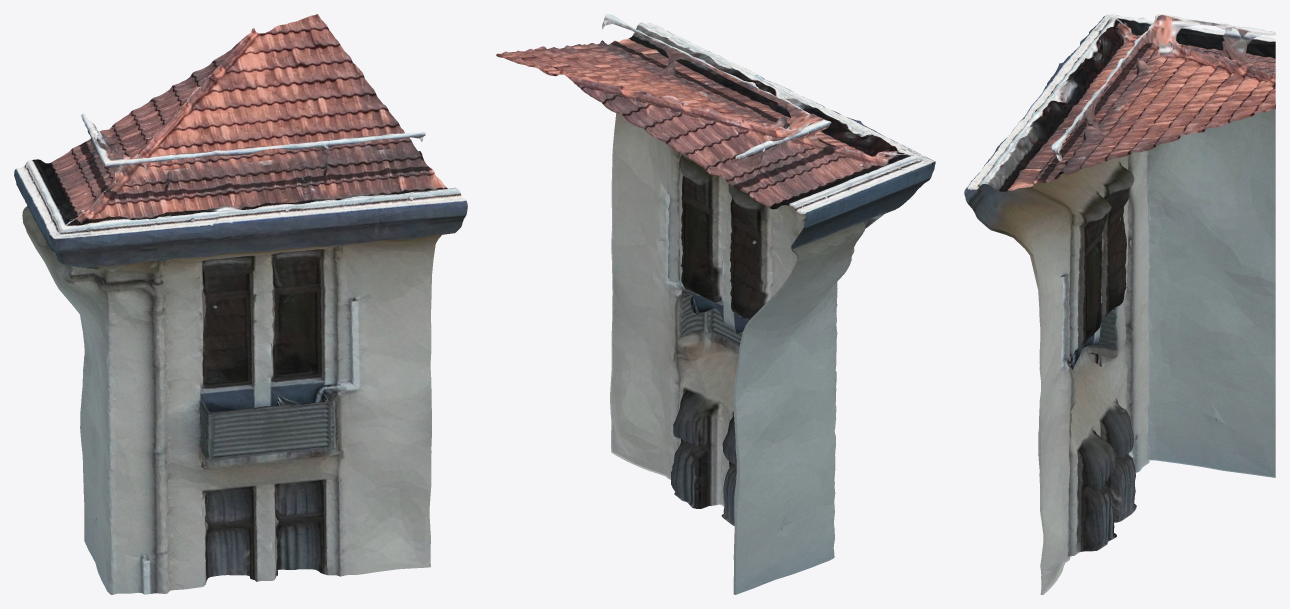
3 renders of one model, left to right at view 1: azimuth 30°, elevation 25°; view 2: azimuth 150°, elevation 25°; view 3: azimuth 270°, elevation 25°, orthographic. The views are drawn at different scales.
Visible parts, largest first — view 1: node_154; view 2: node_154; view 3: node_154.
Part boxes in pixels (x1,y1,x2,y2): node_154: [14, 14, 467, 594]; node_154: [496, 14, 935, 594]; node_154: [964, 14, 1275, 594].
Bounding box in the file's own units: 6.27 × 8.17 × 4.71.
Materials: 1 (1 with a texture image).
